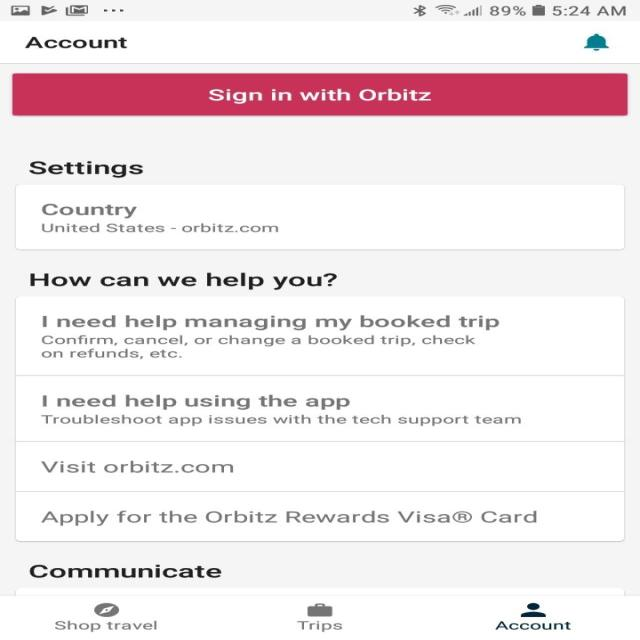Icon: (582, 33, 609, 51), (520, 602, 546, 617), (94, 602, 120, 617), (306, 603, 332, 616)
Text: (41, 334, 476, 359), (41, 509, 537, 526), (42, 314, 500, 330), (40, 414, 521, 426), (29, 272, 337, 290), (42, 394, 350, 410), (28, 564, 222, 578), (40, 460, 233, 473), (40, 222, 278, 232), (29, 161, 144, 178), (41, 203, 137, 218), (24, 36, 127, 49), (54, 620, 158, 632), (493, 620, 571, 630), (296, 620, 342, 632)
TextButton: (11, 73, 626, 115)
